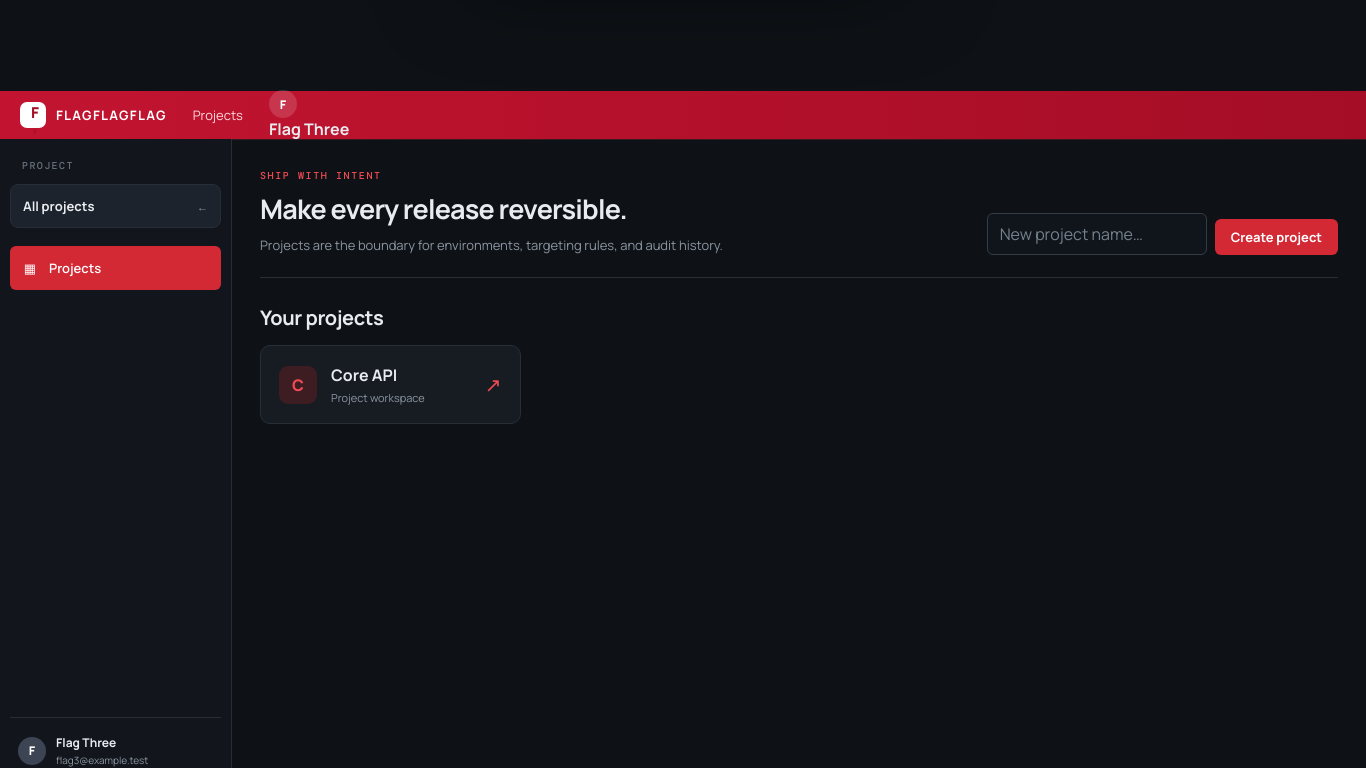
Test: admin control plane › reveals an SDK secret once, then tracks revocation without retaining the secret
The width and height of the screenshot is (1366, 768).
(page scrolled)
Check: the text "Core API" is shown, box x1=331 y1=364 x2=397 y2=386
Click the button "C Core API Project workspace ↗".
click(390, 385)  # box x1=260 y1=345 x2=520 y2=424
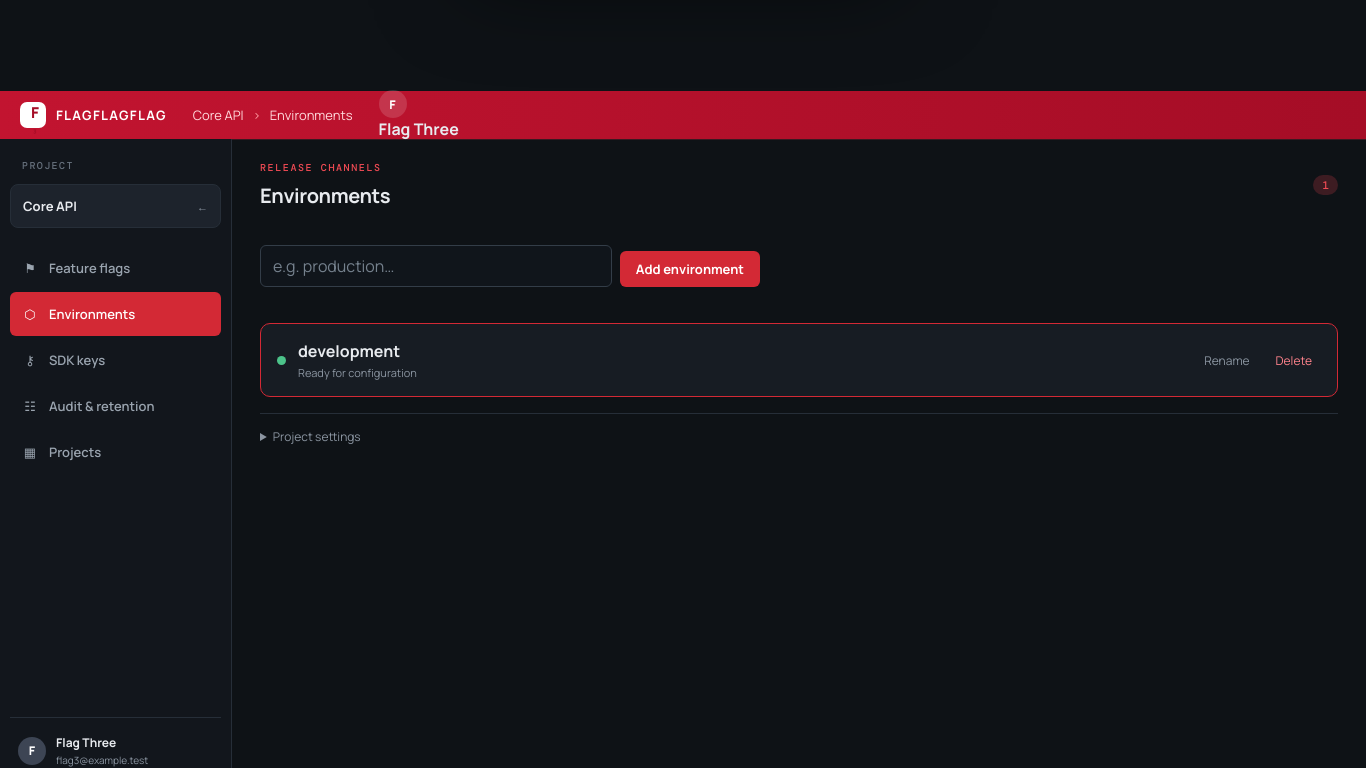
Check: the text "development" is shown, box x1=298 y1=340 x2=417 y2=362
Click the button "⚷ SDK keys".
click(116, 360)  # box x1=10 y1=338 x2=221 y2=382
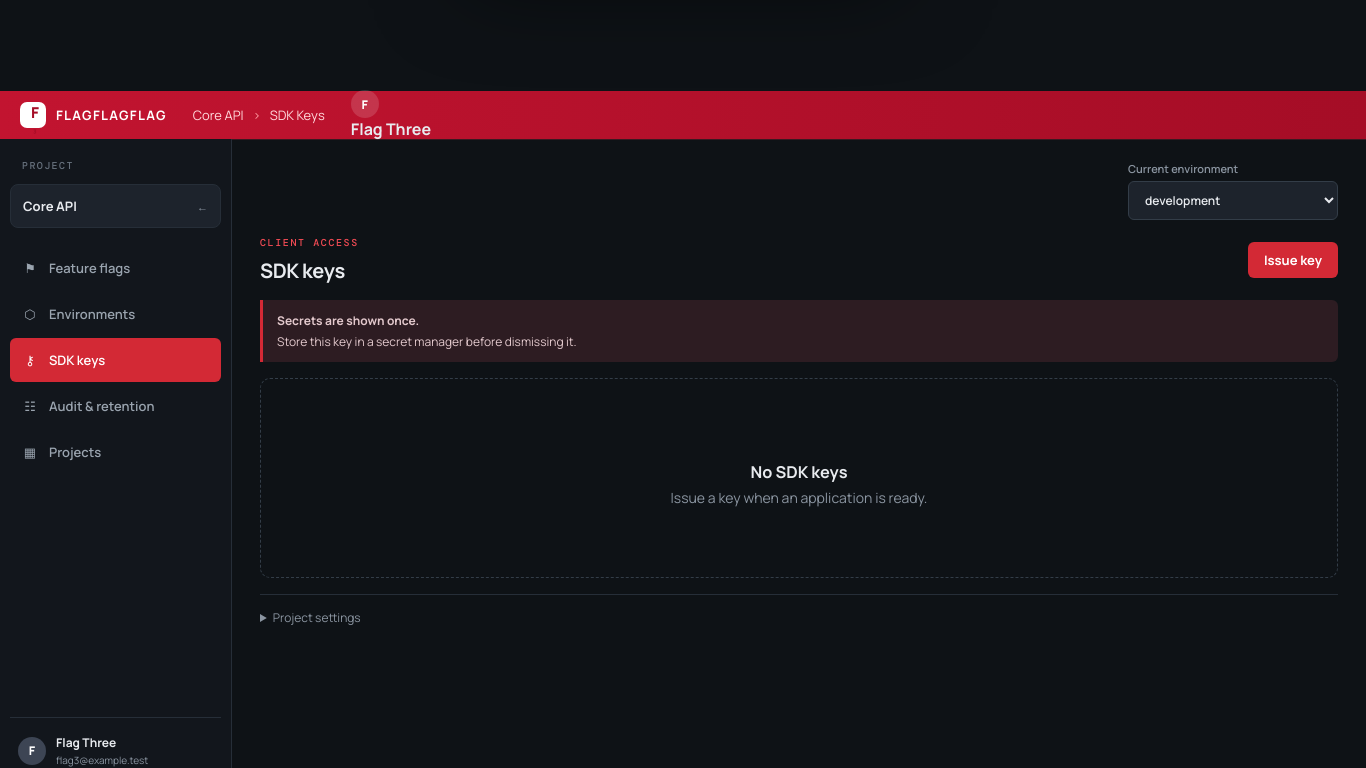
Check: the heading "No SDK keys" is shown, box x1=750 y1=461 x2=848 y2=483
Click the button "Issue key".
click(1293, 260)  # box x1=1248 y1=242 x2=1338 y2=278
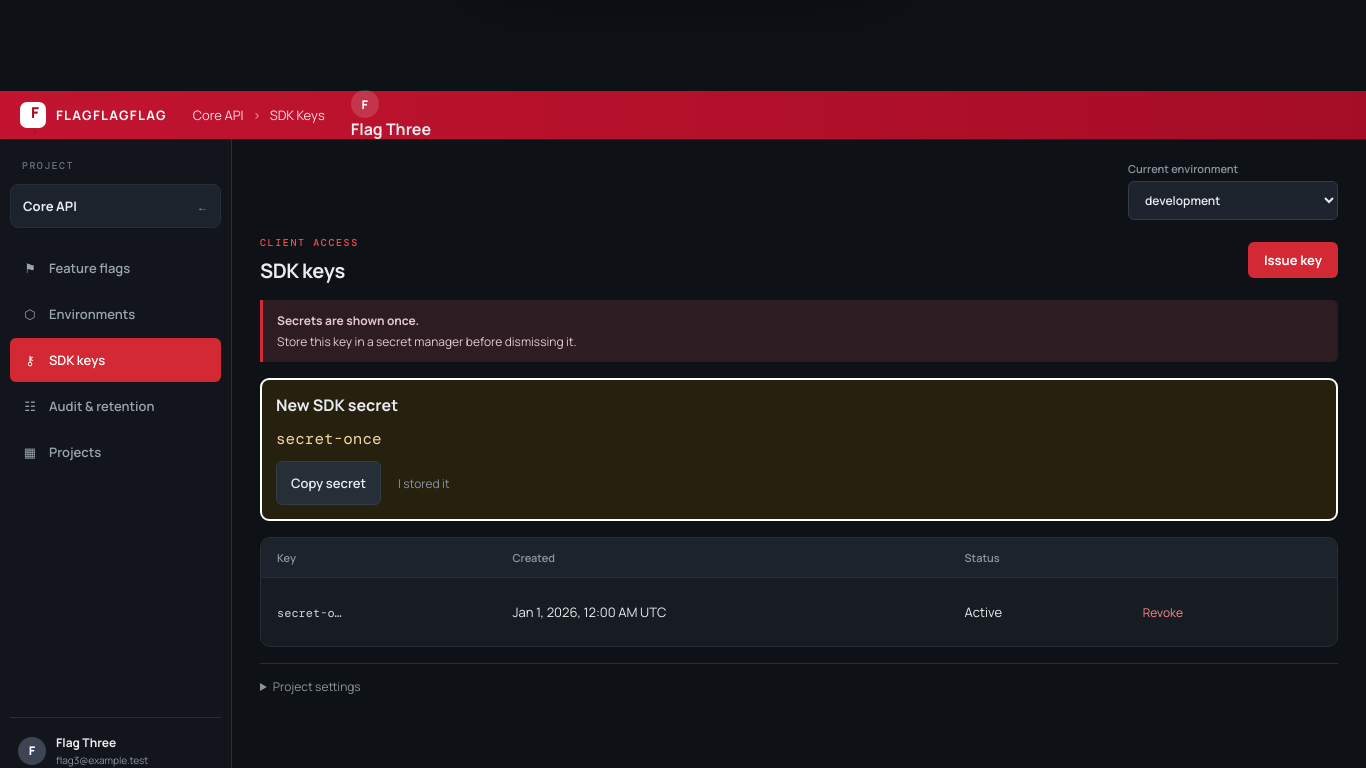
Check: the element "New SDK secret" shows "secret-once", box x1=276 y1=428 x2=382 y2=449
Click the button "I stored it".
click(424, 483)  # box x1=389 y1=461 x2=459 y2=505
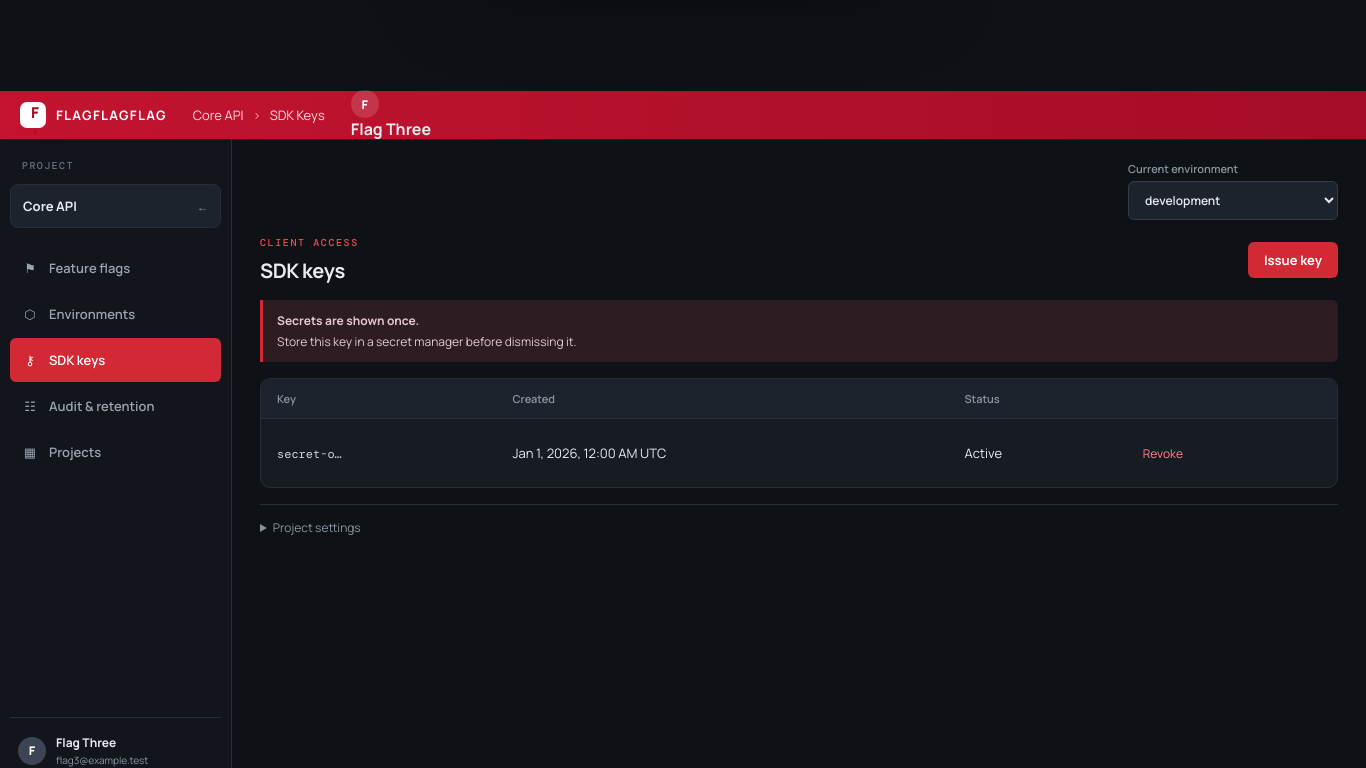
Check: the text "secret-o…" is shown, box x1=277 y1=446 x2=342 y2=462
Check: the text "secret-once" is gone
Click the button "Revoke".
click(1163, 453)  # box x1=1134 y1=431 x2=1192 y2=475
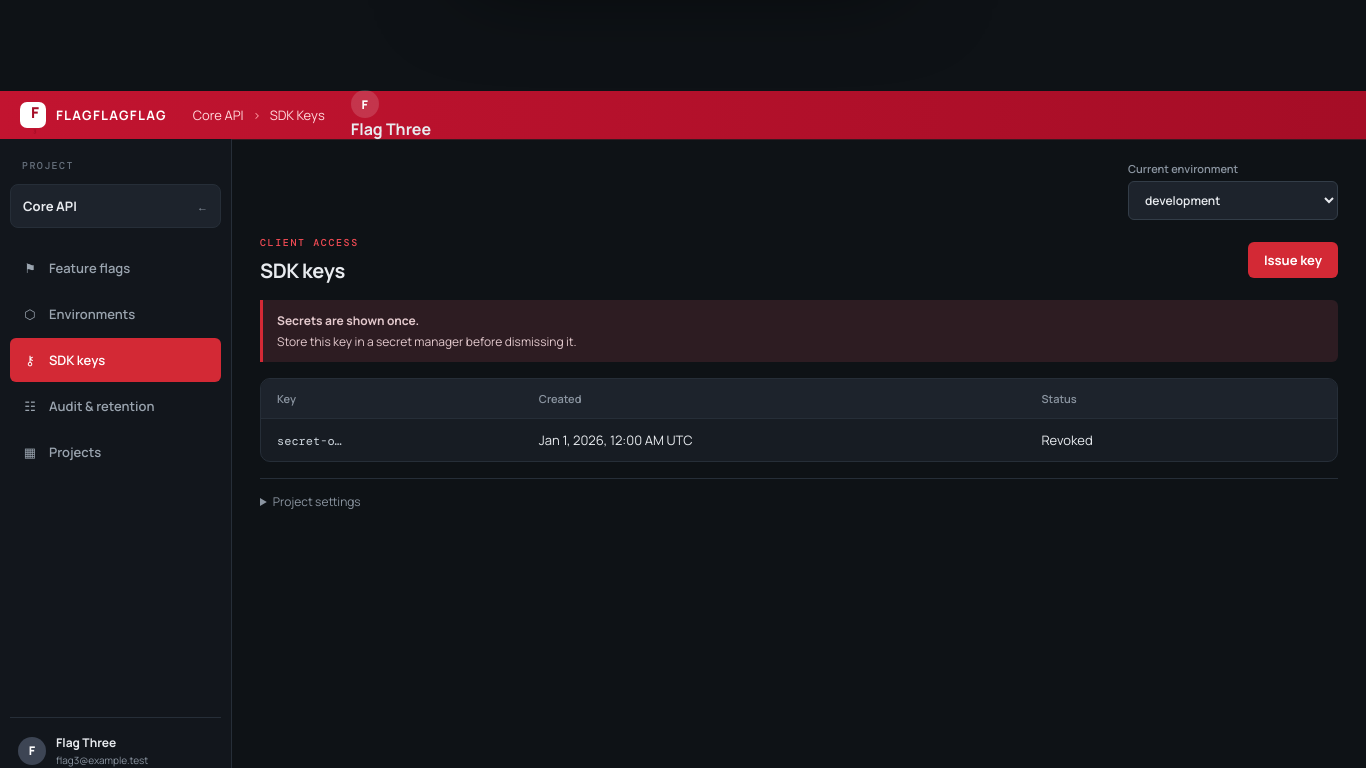
Check: the text "Revoked" is shown, box x1=1025 y1=419 x2=1250 y2=461
